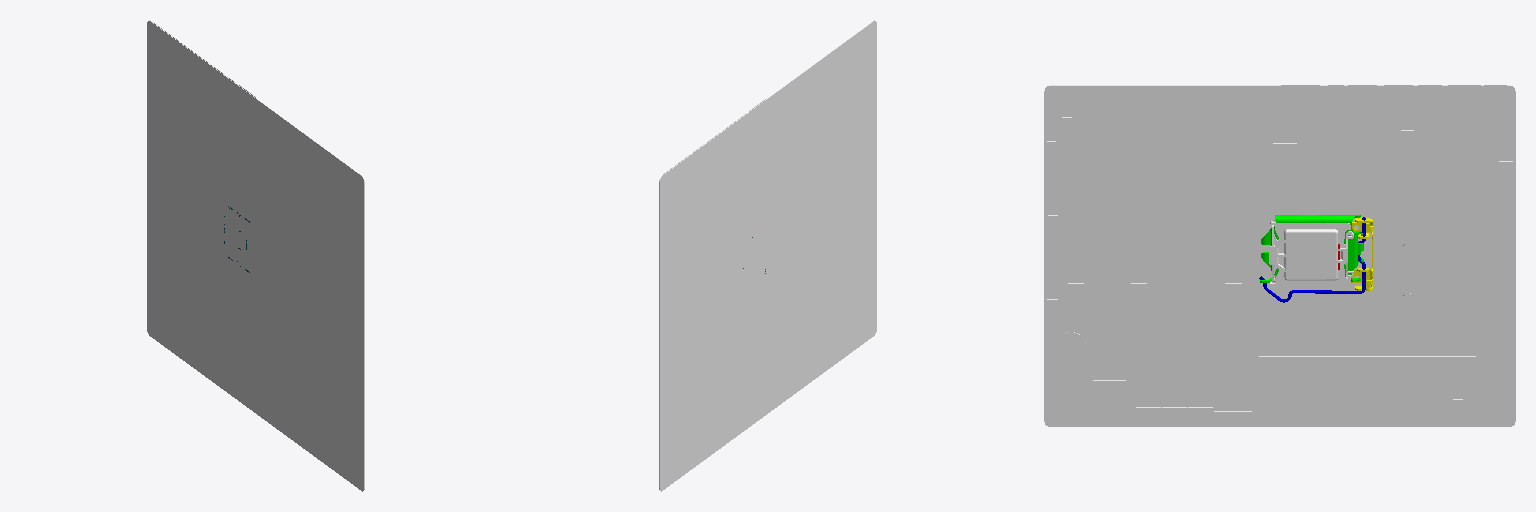
The robot description file, URDF, robot "test_bench":
<?xml version="1.0"?>
<robot name="test_bench">
    <material name="red">
      <color rgba="1.0 0.0 0.0 1"/>
  </material>

  <material name="green_light">
      <color rgba="0.0 1.0 0.0 1"/>
  </material>

  <material name="green_dark">
    <color rgba="0.0 0.5 0.0 1"/>
  </material>

  <material name="blue">
      <color rgba="0.0 0.0 1.0 1"/>
  </material>

  <material name="yellow">
      <color rgba="1.0 1.0 0.0 1"/>
  </material>

  <material name="black">
      <color rgba="0.0 0.0 0.0 1"/>
  </material>

  <material name="white">
      <color rgba="1.0 1.0 1.0 1"/>
  </material>

  <material name="box_bot_blue">
      <color rgba="0.088656 0.428691 0.491021 1"/>
  </material>

    <link name="base">
            <visual>
                <geometry>
                    <mesh filename="package://test_bench_description/meshes/Base.dae" />
                </geometry>
                <material name="white"/>
            </visual>
            <collision>
                <geometry>
                    <mesh filename="package://test_bench_description/meshes/Base.dae" />
                </geometry>
            </collision>
        </link>

    <link name="base_link">
            <inertial>
                <origin rpy="0.0 0.0 0.0"
                    xyz="0.006394396536052227 -9.812158532440662e-05 0.0009113792330026627" />
                <mass value="32.86" />
                <inertia ixx="0.13143999874591827" ixy="0.0" ixz="0.0" iyy="0.13143999874591827"
                    iyz="0.0" izz="0.13143999874591827" />
            </inertial>
        </link>
    <joint name="base_link_joint" type="fixed">
            <origin xyz="0 0 0" rpy="0 0 0" />
            <parent link="base" />
            <child link="base_link" />
        </joint>

    <link name="solid1">
          <inertial>
                <origin rpy="0.0 0.0 0.0"
                    xyz="0.0 0.0 0.0" />
                <mass value="32.86" />
                <inertia ixx="0.13143999874591827" ixy="0.0" ixz="0.0" iyy="0.13143999874591827"
                    iyz="0.0" izz="0.13143999874591827" />
            </inertial>
        <visual>
            <geometry>
                <mesh filename="package://test_bench_description/meshes/solid1.stl" />
            </geometry>
            <material name="yellow"/>
        </visual>
        <collision>
            <geometry>
                <mesh filename="package://test_bench_description/meshes/solid1.stl" />
            </geometry>
        </collision>
    </link>
    <joint name="base_solid1_joint" type="fixed">
            <origin xyz="0 0.08 0.1" rpy="0 0 0" />
            <parent link="base" />
            <child link="solid1" />
        </joint>

    <link name="solid3">
          <inertial>
                <origin rpy="0.0 0.0 0.0"
                    xyz="0.0 0.0 0.0" />
                <mass value="32.86" />
                <inertia ixx="0.13143999874591827" ixy="0.0" ixz="0.0" iyy="0.13143999874591827"
                    iyz="0.0" izz="0.13143999874591827" />
            </inertial>
        <visual>
            <geometry>
                <mesh filename="package://test_bench_description/meshes/solid3.stl" />
            </geometry>
            <material name="blue"/>
        </visual>
        <collision>
            <geometry>
                <mesh filename="package://test_bench_description/meshes/solid3.stl" />
            </geometry>
        </collision>
    </link>
    <joint name="solid1_solid3_joint" type="fixed">
            <origin xyz="0 0 -0.012" rpy="0 0 0" />
            <parent link="solid1" />
            <child link="solid3" />
        </joint>

    <link name="solid16">
          <inertial>
                <origin rpy="0.0 0.0 0.0"
                    xyz="0.0 0.0 0.0" />
                <mass value="32.86" />
                <inertia ixx="0.13143999874591827" ixy="0.0" ixz="0.0" iyy="0.13143999874591827"
                    iyz="0.0" izz="0.13143999874591827" />
            </inertial>
        <visual>
            <geometry>
                <mesh filename="package://test_bench_description/meshes/solid16.stl" />
            </geometry>
            <material name="box_bot_blue"/>
        </visual>
        <collision>
            <geometry>
                <mesh filename="package://test_bench_description/meshes/solid16.stl" />
            </geometry>
        </collision>
    </link>
    <joint name="solid1_solid16_joint" type="fixed">
            <origin xyz="0 0 0.004" rpy="0 0 0" />
            <parent link="solid1" />
            <child link="solid16" />
        </joint>

    <link name="solid17">
          <inertial>
                <origin rpy="0.0 0.0 0.0"
                    xyz="0.0 0.0 0.0" />
                <mass value="32.86" />
                <inertia ixx="0.13143999874591827" ixy="0.0" ixz="0.0" iyy="0.13143999874591827"
                    iyz="0.0" izz="0.13143999874591827" />
            </inertial>
        <visual>
            <geometry>
                <mesh filename="package://test_bench_description/meshes/solid17.stl" />
            </geometry>
            <material name="red"/>
        </visual>
        <collision>
            <geometry>
                <mesh filename="package://test_bench_description/meshes/solid17.stl" />
            </geometry>
        </collision>
    </link>
    <joint name="solid16_solid17_joint" type="fixed">
            <origin xyz="0 0 0" rpy="0 0 0" />
            <parent link="solid16" />
            <child link="solid17" />
        </joint>

    <link name="solid15">
          <inertial>
                <origin rpy="0.0 0.0 0.0"
                    xyz="0.0 0.0 0.0" />
                <mass value="32.86" />
                <inertia ixx="0.13143999874591827" ixy="0.0" ixz="0.0" iyy="0.13143999874591827"
                    iyz="0.0" izz="0.13143999874591827" />
            </inertial>
        <visual>
            <geometry>
                <mesh filename="package://test_bench_description/meshes/solid15.stl" />
            </geometry>
            <material name="white"/>
        </visual>
        <collision>
            <geometry>
                <mesh filename="package://test_bench_description/meshes/solid15.stl" />
            </geometry>
        </collision>
    </link>
    <joint name="solid15_solid17_joint" type="fixed">
            <origin xyz="0 0 0" rpy="0 0 0" />
            <parent link="solid17" />
            <child link="solid15" />
        </joint>

    <link name="surface">
          <inertial>
                <origin rpy="0.0 0.0 0.0"
                    xyz="0.0 0.0 0.0" />
                <mass value="32.86" />
                <inertia ixx="0.13143999874591827" ixy="0.0" ixz="0.0" iyy="0.13143999874591827"
                    iyz="0.0" izz="0.13143999874591827" />
            </inertial>
        <visual>
            <geometry>
                <mesh filename="package://test_bench_description/meshes/surface.stl" />
            </geometry>
            <material name="green_light"/>
        </visual>
        <collision>
            <geometry>
                <mesh filename="package://test_bench_description/meshes/surface.stl" />
            </geometry>
        </collision>
    </link>
    <joint name="solid3_surface_joint" type="fixed">
            <origin xyz="-0.002 0.001 0.012" rpy="0 0 0" />
            <parent link="solid3" />
            <child link="surface" />
        </joint>

</robot>

--- Render facts (derived) ---
3 views of the same robot in one strip: view 1: azimuth 30°, elevation 25°; view 2: azimuth 150°, elevation 25°; view 3: azimuth 270°, elevation 25° (orthographic).
Model test_bench with 8 links and 7 joints (7 fixed), rooted at base, posed all joints at 0.
Visible links, largest first — view 1: base; view 2: base; view 3: base, solid15, surface, solid3, solid1.
Link boxes in pixels (x1,y1,x2,y2): base: (147, 20, 364, 491); base: (659, 20, 876, 491); base: (1044, 85, 1515, 426); solid15: (1269, 221, 1353, 285); surface: (1260, 215, 1363, 282); solid3: (1259, 217, 1365, 302); solid1: (1351, 218, 1372, 290).
Size in the robot's own frame: 0.0093 by 0.305 by 0.2445 metres.
Meshes: 7 distinct files referenced, 7 mesh visuals loaded (6 binary STL, 1 Collada DAE).